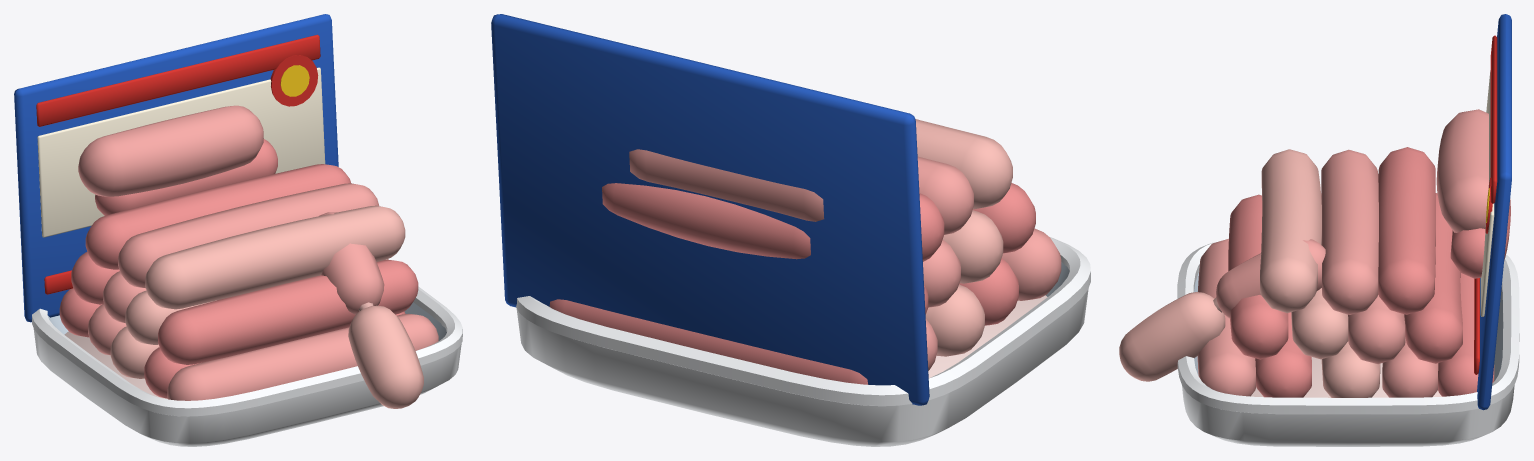
The model's file is dispenser_sausages.glb.
3 views of the same model, side by side, from view 1: azimuth 30°, elevation 25°; view 2: azimuth 150°, elevation 25°; view 3: azimuth 270°, elevation 25° (orthographic). The views are drawn at different scales.
Parts seen in each view (by area): view 1: DispenserSausages; view 2: DispenserSausages; view 3: DispenserSausages.
Boxes of the visible parts, <box> form: DispenserSausages: <box>14,14,462,446</box>; DispenserSausages: <box>491,14,1090,446</box>; DispenserSausages: <box>1119,14,1519,446</box>.
Size of the model in its own units: 5.94 by 4.54 by 5.92.
